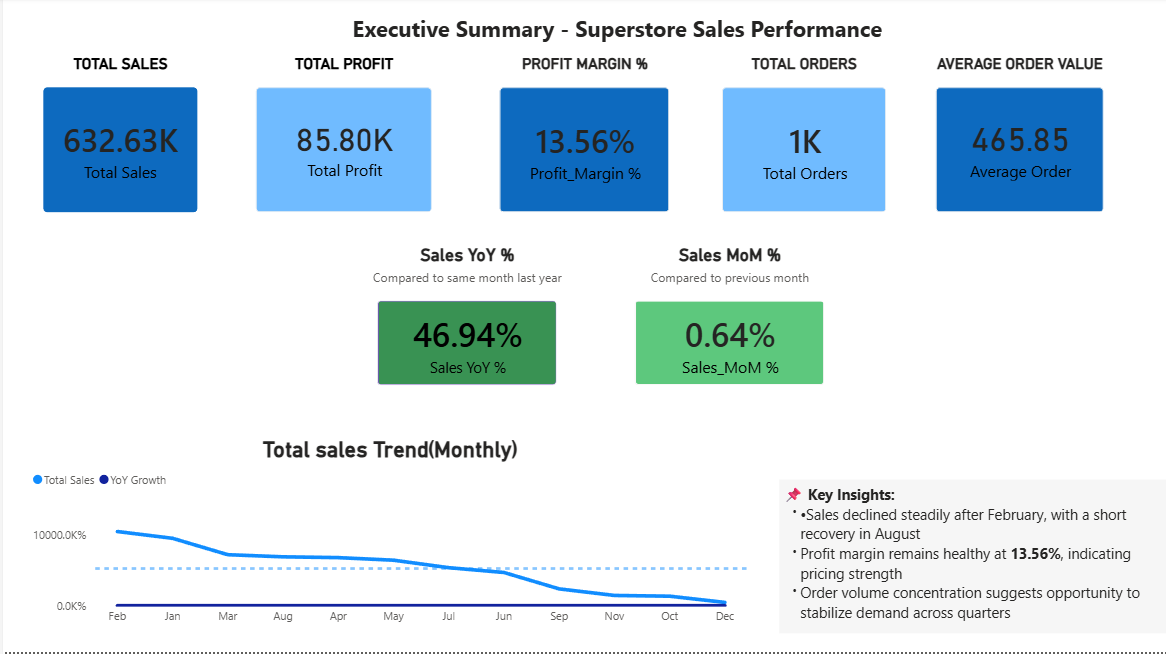

The page's visual inventory and layout, read from the dashboard file:
{"tool":"powerbi","page":{"name":"Executive Summary","canvas":[1280,720],"ordinal":0},"visuals":[{"type":"cardVisual","title":"TOTAL SALES","fields":{"Data":["Table1_2.Total Sales"]},"box":[27.4,63.1,203.1,190.7],"z":0},{"type":"cardVisual","title":"TOTAL PROFIT","fields":{"Data":["Table1_2.Total Profit"]},"box":[260.7,63.1,227.8,190.7],"z":1000},{"type":"cardVisual","title":"PROFIT MARGIN %","fields":{"Data":["Table1_2.Profit Margin perc"]},"box":[528.3,63.1,220.9,190.7],"z":2000},{"type":"cardVisual","title":"TOTAL ORDERS","fields":{"Data":["Table1_2.Total Orders"]},"box":[772.6,63.1,214.1,190.7],"z":3000},{"type":"cardVisual","title":"AVERAGE ORDER VALUE","fields":{"Data":["Table1_2.Average Order"]},"box":[1007.2,63.1,218.2,190.7],"z":4000},{"type":"lineChart","title":"Total sales Trend(Monthly)","fields":{"Y":["Table1_2.Total Sales","Table1_2.Sales YoY %"],"Category":["Calendar.Month"]},"box":[27.4,483,794.5,215.4],"z":5000},{"type":"textbox","box":[292.3,13.4,764.3,48.7],"z":6000},{"type":"textbox","box":[852.1,529.7,428.1,168.8],"z":7000},{"type":"cardVisual","title":"Sales YoY %","fields":{"Data":["Table1_2.Sales YoY %"]},"box":[393.8,271.7,231.9,171.5],"z":8000},{"type":"cardVisual","title":"Sales MoM %","fields":{"Data":["Table1_2.Sales_MoM %"]},"box":[676.5,271.7,242.9,171.5],"z":9000}]}

Visuals, with their boxes in screenshot pixels (x1, y1, x2, y2), scaled from the page's 1280x720 canvas onto the 1166x654 screenshot:
"TOTAL SALES" cardVisual: 25, 57, 210, 231
"TOTAL PROFIT" cardVisual: 237, 57, 445, 231
"PROFIT MARGIN %" cardVisual: 481, 57, 682, 231
"TOTAL ORDERS" cardVisual: 704, 57, 899, 231
"AVERAGE ORDER VALUE" cardVisual: 917, 57, 1116, 231
"Total sales Trend(Monthly)" lineChart: 25, 439, 749, 634
textbox: 266, 12, 962, 56
textbox: 776, 481, 1165, 634
"Sales YoY %" cardVisual: 359, 247, 570, 403
"Sales MoM %" cardVisual: 616, 247, 838, 403
